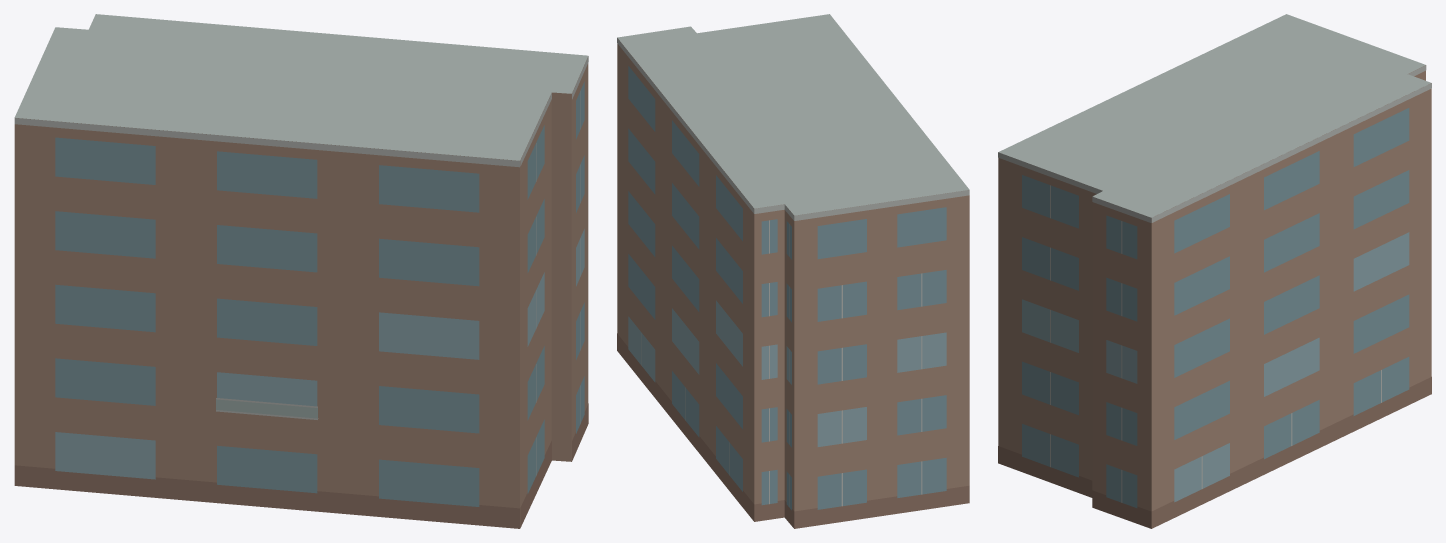
File: survey-upis-32529800.glb
3 renders of one model, left to right at view 1: azimuth 30°, elevation 25°; view 2: azimuth 150°, elevation 25°; view 3: azimuth 270°, elevation 25°, orthographic. The views are drawn at different scales.
Parts seen in each view (by area): view 1: survey-upis-32529800.tmp; view 2: survey-upis-32529800.tmp; view 3: survey-upis-32529800.tmp.
Boxes of the visible parts, box(x1,y1,x2,y2) form: survey-upis-32529800.tmp: box(14, 14, 588, 528); survey-upis-32529800.tmp: box(617, 14, 969, 528); survey-upis-32529800.tmp: box(998, 14, 1431, 528).
Size of the model in its own units: 19.54 by 13.9 by 17.57.
